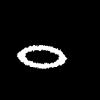chain: (17, 45, 66, 67)
